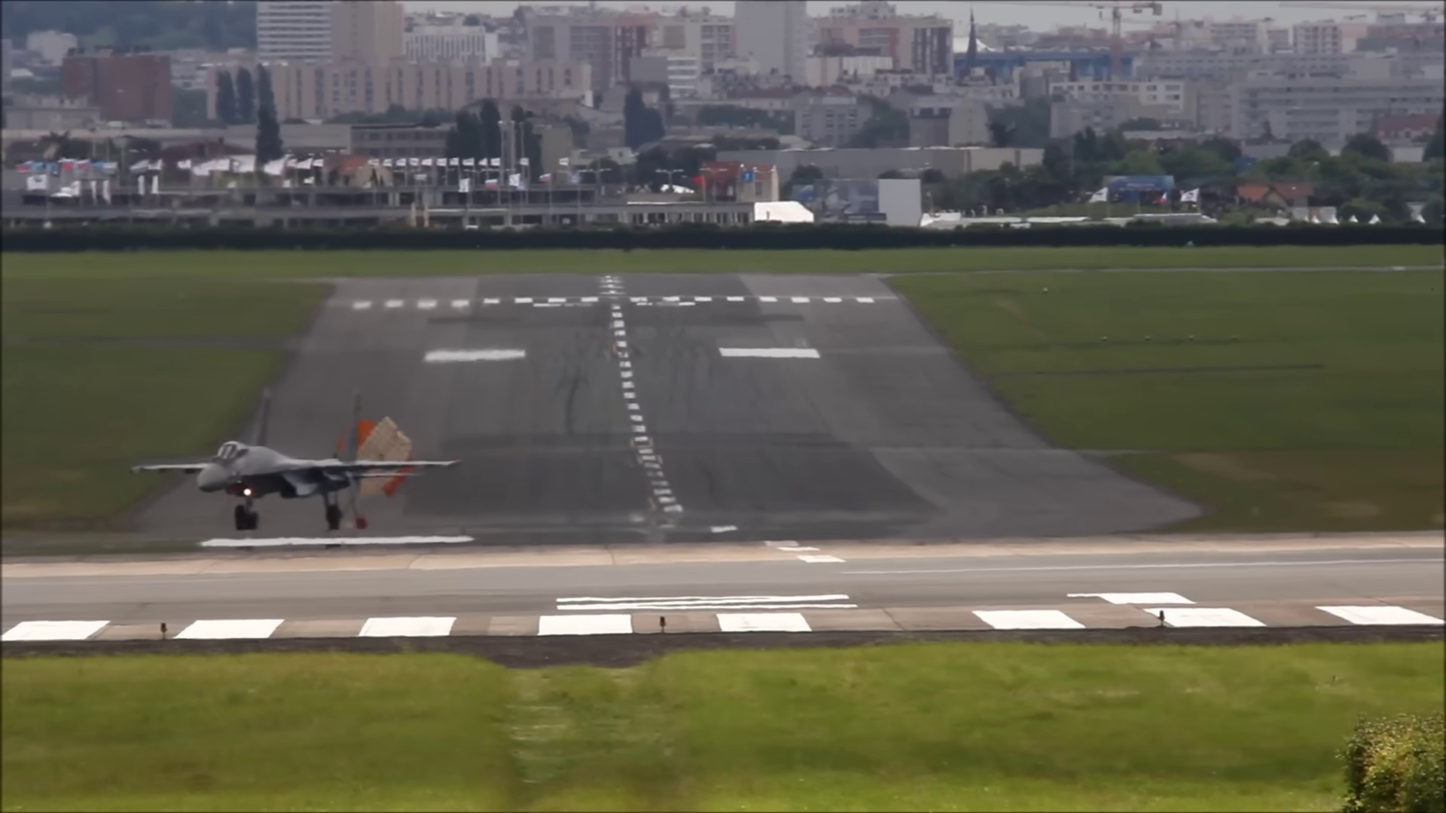Su35: (121, 385, 466, 552)
